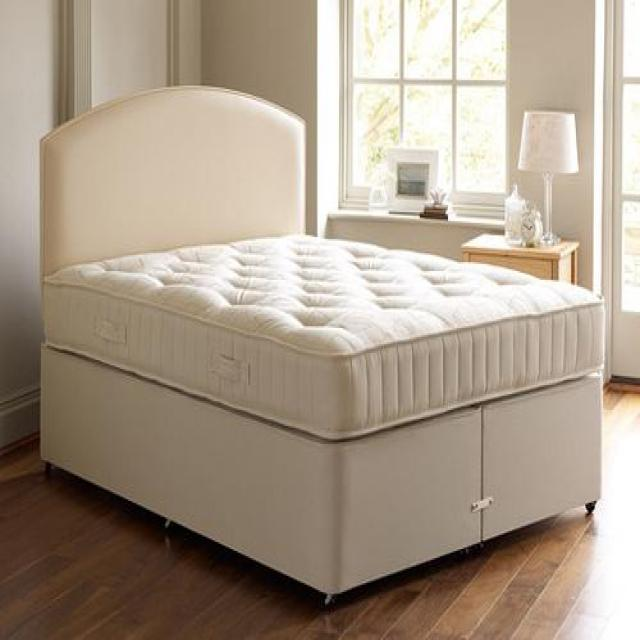bed: (37, 82, 606, 606)
